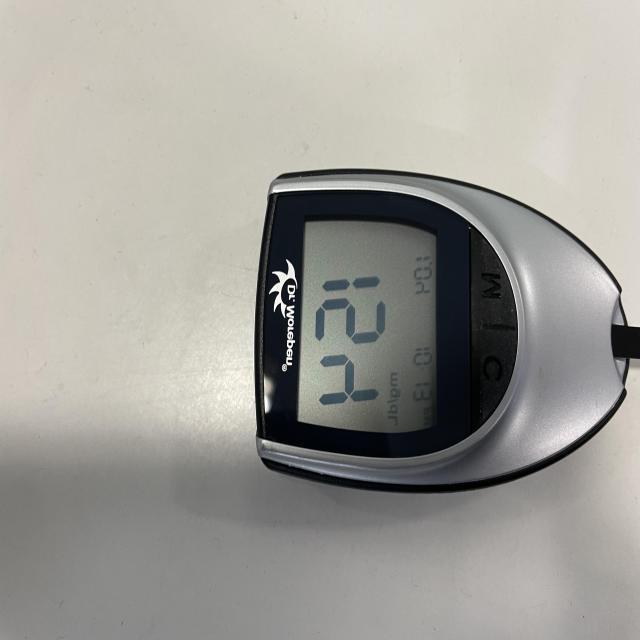gluco: (252, 168, 640, 495)
